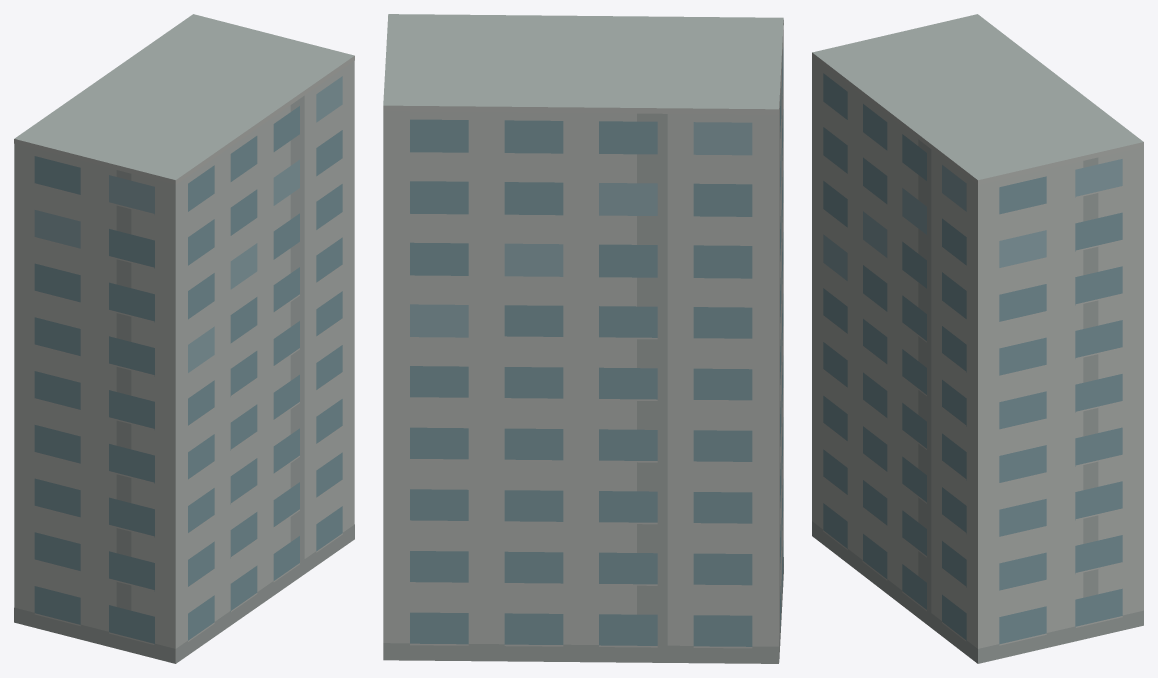
File: residential-287e6480-551a-4019-b762-a544c9c1806f.glb
The picture shows the model from 3 angles, left to right: view 1: azimuth 30°, elevation 25°; view 2: azimuth 150°, elevation 25°; view 3: azimuth 270°, elevation 25°; orthographic projection. The views are drawn at different scales.
Visible parts, largest first — view 1: residential-287e6480-551a-4019-b762-a544c9c1806f.tmp; view 2: residential-287e6480-551a-4019-b762-a544c9c1806f.tmp; view 3: residential-287e6480-551a-4019-b762-a544c9c1806f.tmp.
Part boxes in pixels (bbox=[...]): residential-287e6480-551a-4019-b762-a544c9c1806f.tmp: bbox=[14, 14, 354, 663]; residential-287e6480-551a-4019-b762-a544c9c1806f.tmp: bbox=[383, 14, 783, 663]; residential-287e6480-551a-4019-b762-a544c9c1806f.tmp: bbox=[812, 14, 1143, 663].
Size of the model in its own units: 17.7 by 24 by 14.93.
